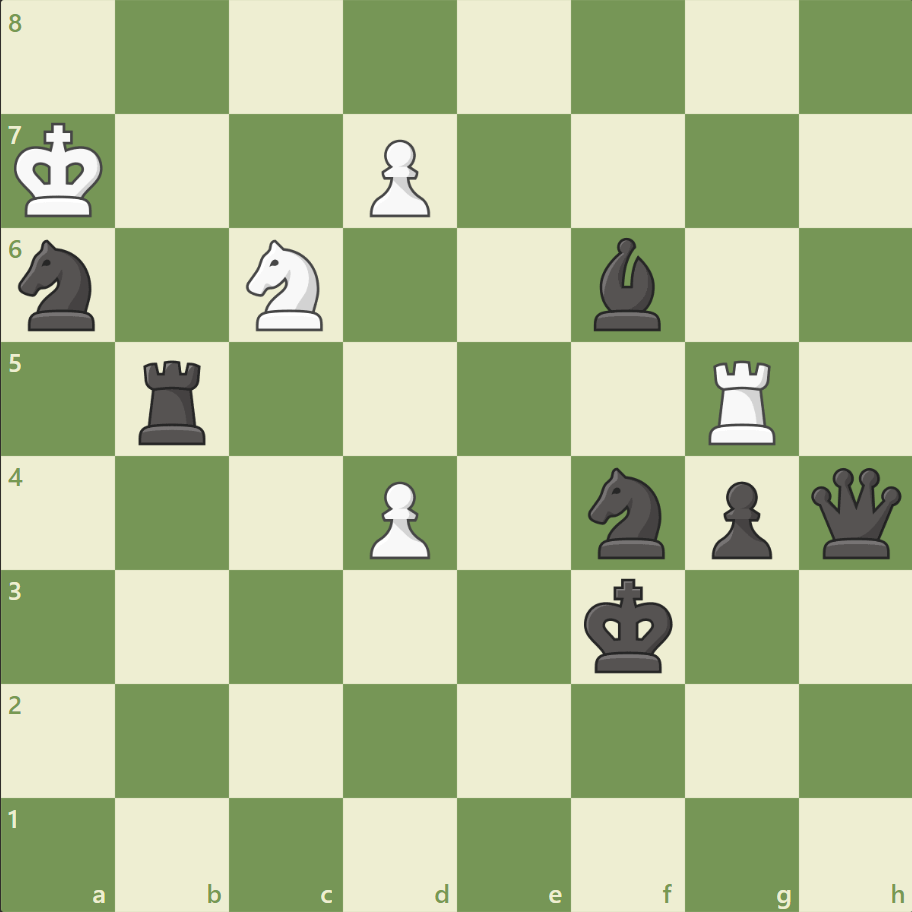K: (11, 117, 111, 225)
N: (238, 234, 335, 337)
P: (361, 132, 435, 223), (361, 473, 435, 564)
R: (700, 352, 783, 449)
b: (585, 233, 669, 336)
k: (579, 571, 679, 679)
n: (11, 234, 108, 337), (579, 461, 676, 564)
p: (701, 473, 776, 564)
q: (805, 463, 904, 562)
r: (133, 352, 215, 449)
